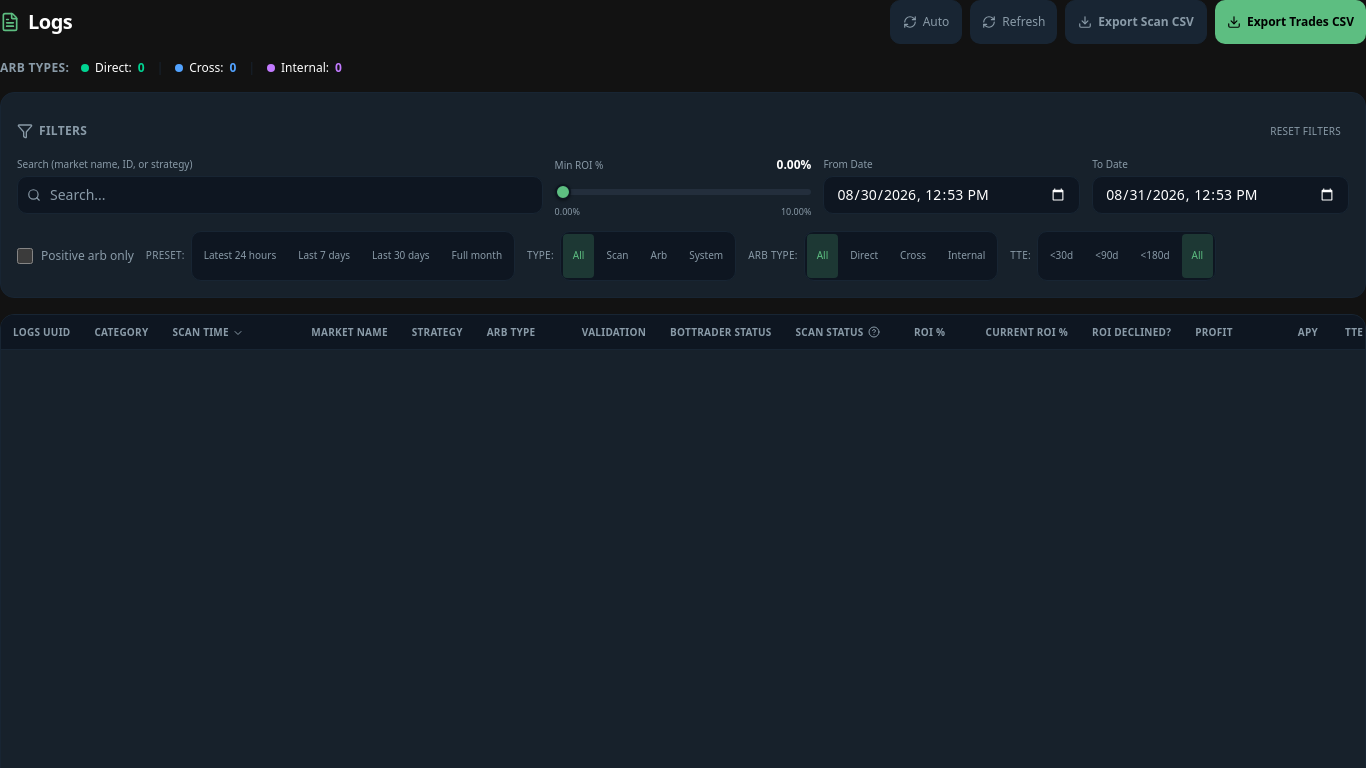
it: LogsPanel › synchronously invalidates a pending append and resets virtual scroll for positive-arb toggle changes
The image size is (1366, 768).
(page scrolled)
Click the checkbox labelled "Positive arb only". click: (25, 256)
box: [17,248,33,264]
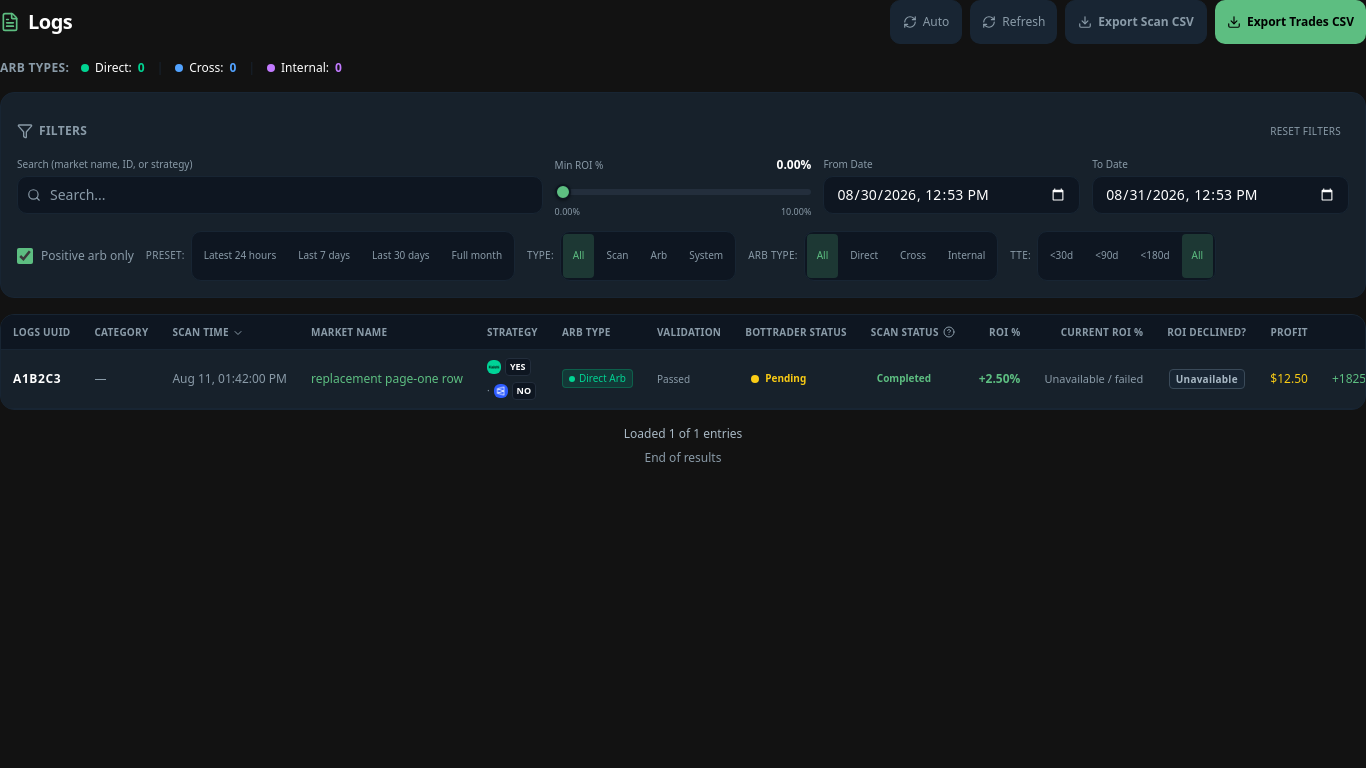
Expected: the button "replacement page-one row" is shown, [311,370,463,387]
